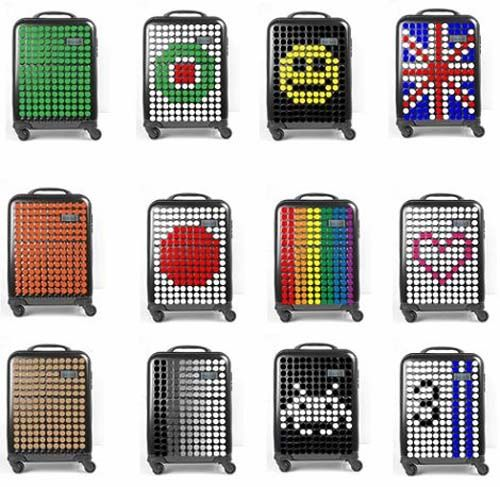suitcase: (10, 11, 103, 141), (141, 8, 234, 138), (264, 10, 357, 140), (393, 8, 486, 138), (396, 195, 489, 325), (271, 192, 364, 322), (146, 192, 239, 322), (4, 185, 97, 315), (5, 342, 98, 472), (144, 345, 237, 475), (272, 341, 365, 471), (399, 345, 492, 475)
